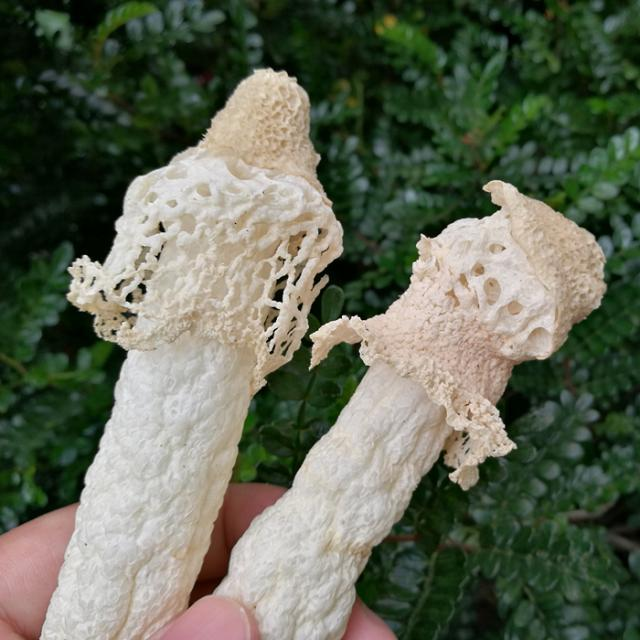Dictyophora indusiate: (222, 180, 609, 636), (48, 72, 343, 640)
